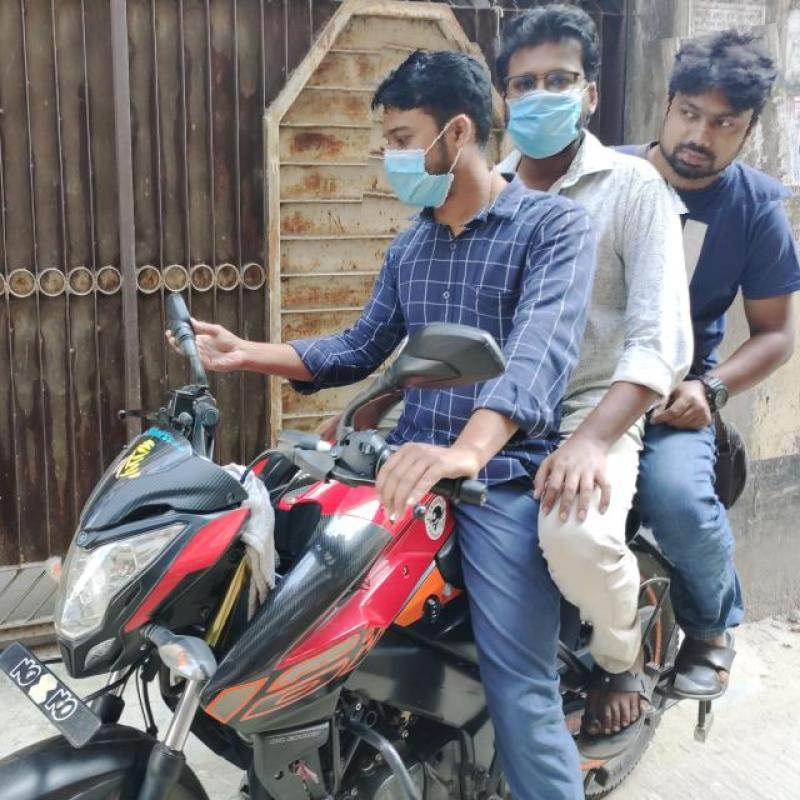nohelmet: (366, 34, 503, 226), (654, 28, 796, 212), (492, 2, 614, 183)
